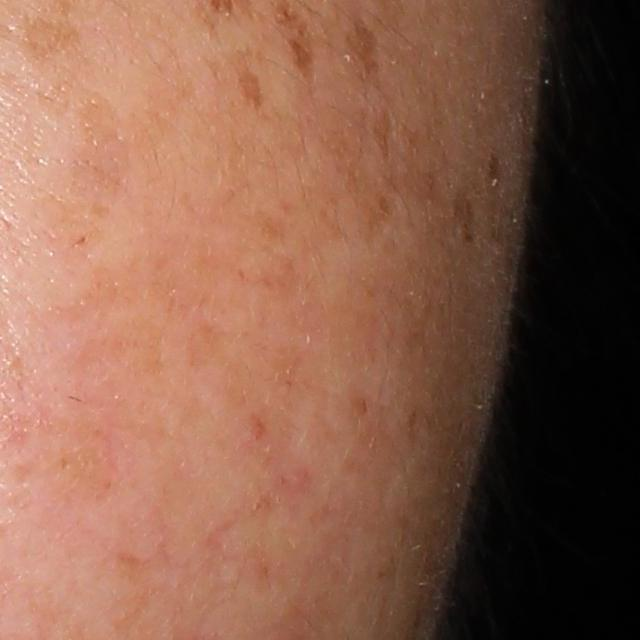melasma: (317, 129, 482, 245), (339, 11, 389, 91), (13, 20, 87, 56)
